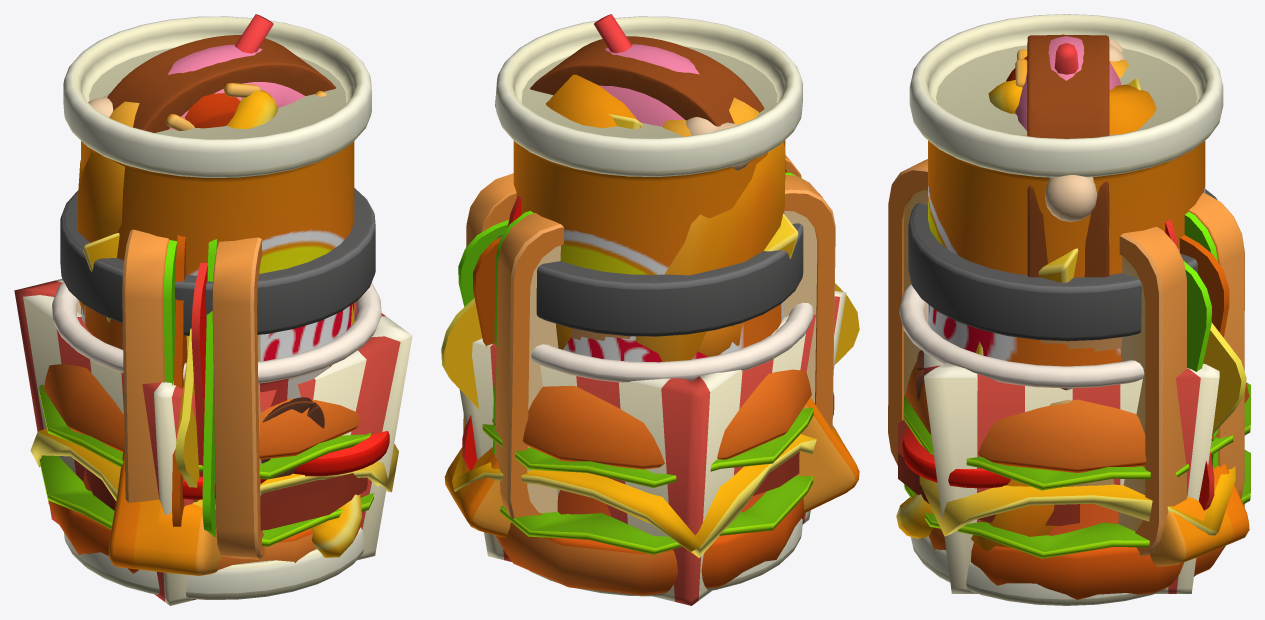
The model's file is Food.fbx.
The picture shows the model from 3 angles, left to right: view 1: azimuth 30°, elevation 25°; view 2: azimuth 150°, elevation 25°; view 3: azimuth 270°, elevation 25°; orthographic projection. The views are drawn at different scales.
Visible parts, largest first — view 1: Chip_orange, Sandwich, Hamberger, Potato, Caffe_Cup, Cream_Chocolate, Hot_Dog, Fried_chicken, Pizza, Cream, Coca; view 2: Chip_orange, Hamberger, Sandwich, Potato, Caffe_Cup, Hot_Dog, Cream_Chocolate, Fried_chicken, Pizza, Cream, Coca; view 3: Chip_orange, Hamberger, Sandwich, Potato, Caffe_Cup, Cream_Chocolate, Fried_chicken, Hot_Dog, Pizza, Cream, Coca.
Part boxes in pixels (bbox=[...]): Chip_orange: bbox=[63, 16, 371, 599]; Sandwich: bbox=[122, 229, 264, 559]; Hamberger: bbox=[30, 364, 398, 573]; Potato: bbox=[14, 233, 412, 605]; Caffe_Cup: bbox=[60, 188, 375, 479]; Cream_Chocolate: bbox=[107, 35, 335, 132]; Hot_Dog: bbox=[77, 90, 362, 557]; Fried_chicken: bbox=[52, 93, 381, 406]; Pizza: bbox=[108, 451, 220, 575]; Cream: bbox=[167, 44, 305, 129]; Coca: bbox=[235, 14, 273, 53]; Chip_orange: bbox=[496, 16, 802, 596]; Hamberger: bbox=[452, 369, 816, 595]; Sandwich: bbox=[441, 155, 859, 518]; Potato: bbox=[459, 114, 846, 605]; Caffe_Cup: bbox=[497, 223, 803, 473]; Hot_Dog: bbox=[546, 74, 784, 361]; Cream_Chocolate: bbox=[530, 36, 764, 126]; Fried_chicken: bbox=[495, 96, 813, 382]; Pizza: bbox=[444, 397, 859, 537]; Cream: bbox=[600, 44, 699, 126]; Coca: bbox=[594, 14, 632, 53]; Chip_orange: bbox=[909, 14, 1223, 605]; Hamberger: bbox=[898, 351, 1250, 599]; Sandwich: bbox=[888, 159, 1246, 556]; Potato: bbox=[924, 78, 1219, 593]; Caffe_Cup: bbox=[908, 189, 1217, 486]; Cream_Chocolate: bbox=[1015, 35, 1109, 277]; Fried_chicken: bbox=[899, 38, 1144, 390]; Hot_Dog: bbox=[896, 34, 1156, 551]; Pizza: bbox=[1150, 464, 1249, 566]; Cream: bbox=[1015, 36, 1121, 130]; Coca: bbox=[1054, 43, 1078, 74].
Bounding box in the file's own units: 25.95 × 41.62 × 26.07.
